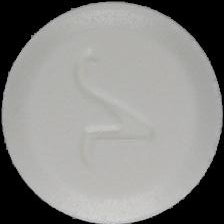33261-628: (0, 0, 224, 224)
